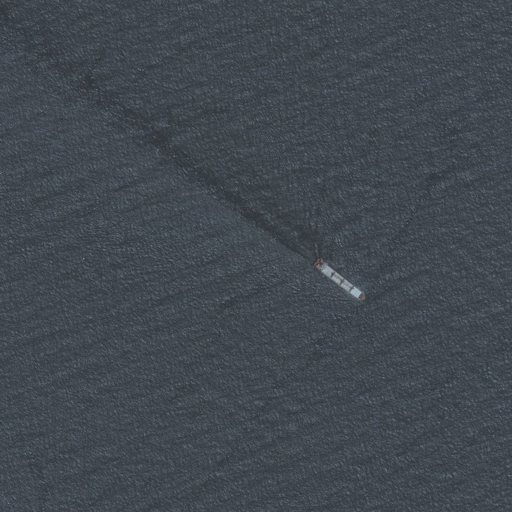ship: (310, 254, 369, 305)
